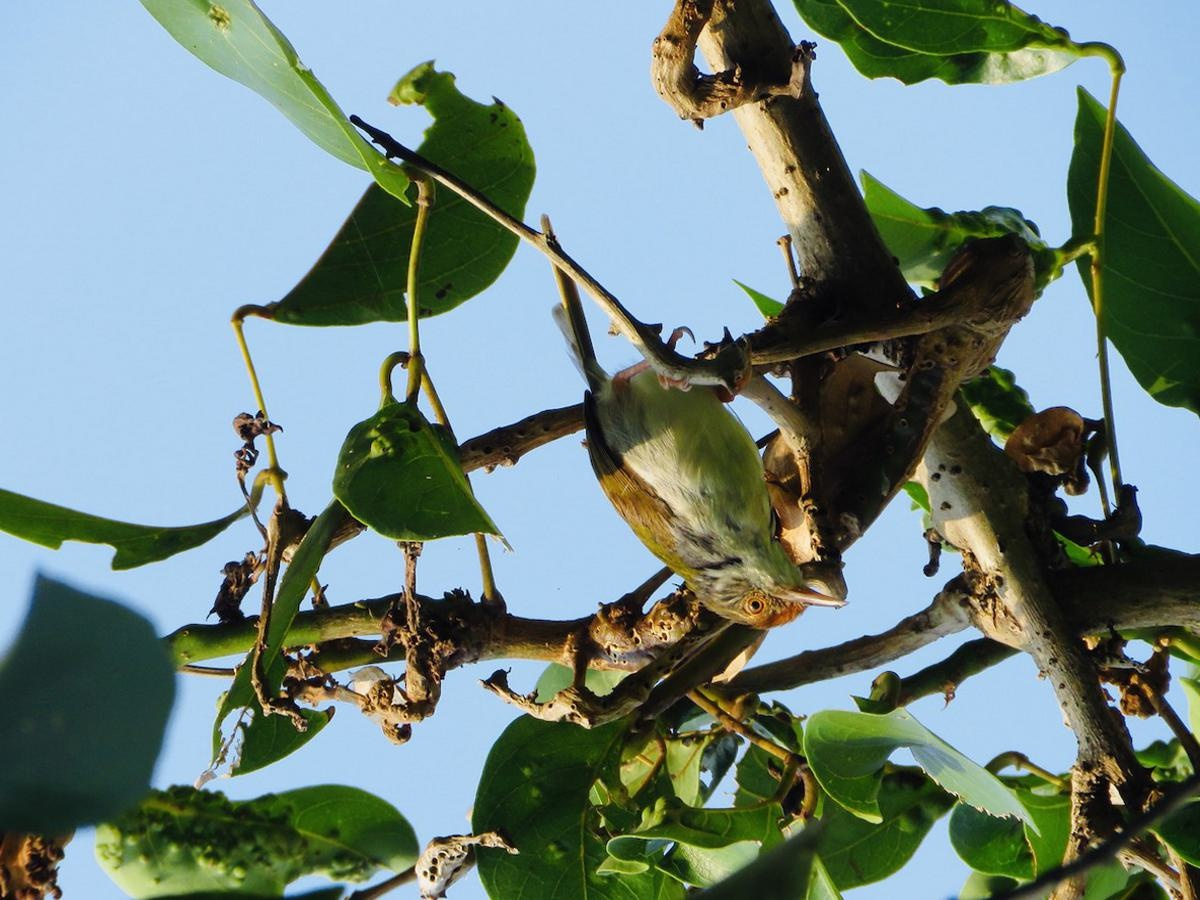tailorbird: (537, 307, 841, 670)
